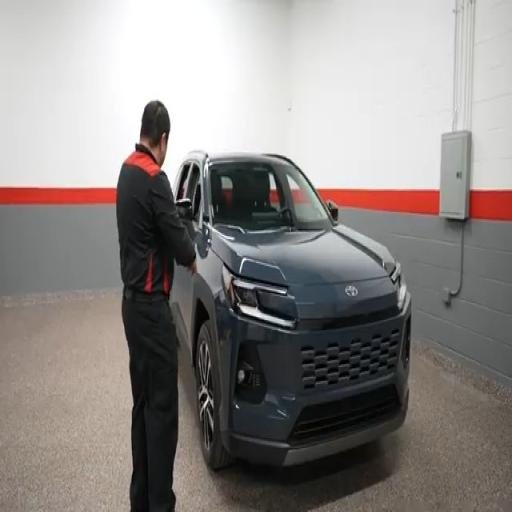bumper: (217, 295, 411, 465), (224, 392, 408, 466)
door: (180, 161, 202, 243), (170, 265, 187, 342)
emblem: (345, 286, 358, 297)
fog_light: (398, 276, 407, 310), (236, 368, 246, 384)
grille: (289, 386, 400, 445), (301, 329, 400, 389)
headlight: (222, 266, 296, 328), (391, 262, 407, 310)
hood: (212, 227, 391, 285)
side_mirror: (176, 198, 192, 220), (326, 201, 338, 221)
tire: (196, 322, 233, 470)
window: (185, 163, 201, 221), (176, 163, 190, 200)
windshield: (210, 161, 330, 230)
